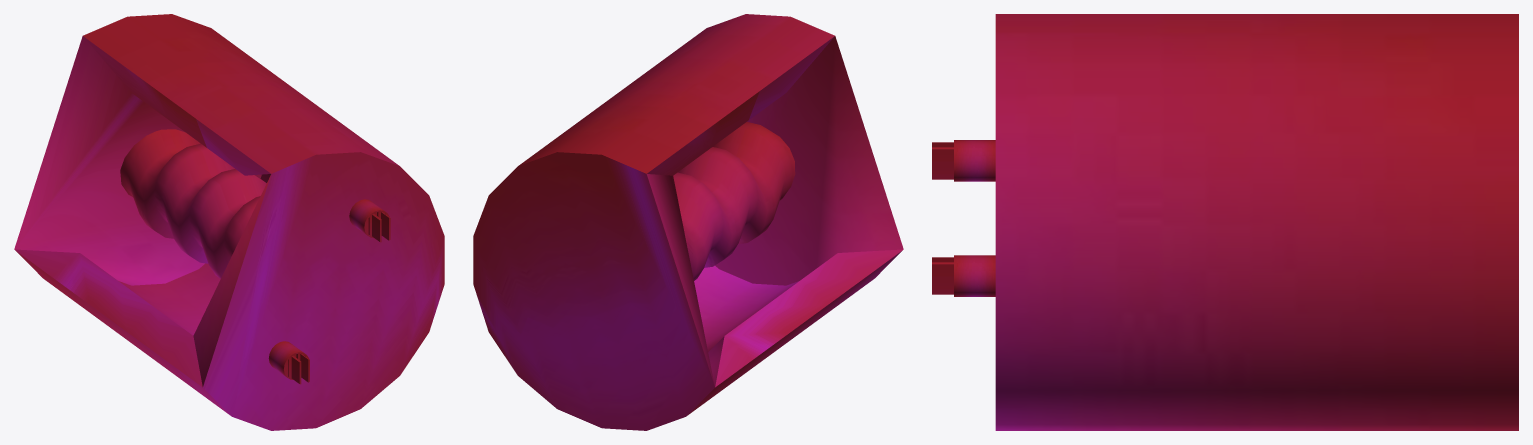
Rendered from NeonObject.DAE.
3 views of the same model, side by side, from view 1: azimuth 30°, elevation 25°; view 2: azimuth 150°, elevation 25°; view 3: azimuth 270°, elevation 25° (orthographic). The views are drawn at different scales.
Parts seen in each view (by area): view 1: Tube001; view 2: Tube001; view 3: Tube001.
Part boxes in pixels (x1,y1,x2,y2): Tube001: (14, 14, 444, 430); Tube001: (473, 14, 903, 430); Tube001: (932, 14, 1518, 430).
Bounding box in the file's own units: 7.29 × 11.04 × 7.87.
1 material, 1 textured.
